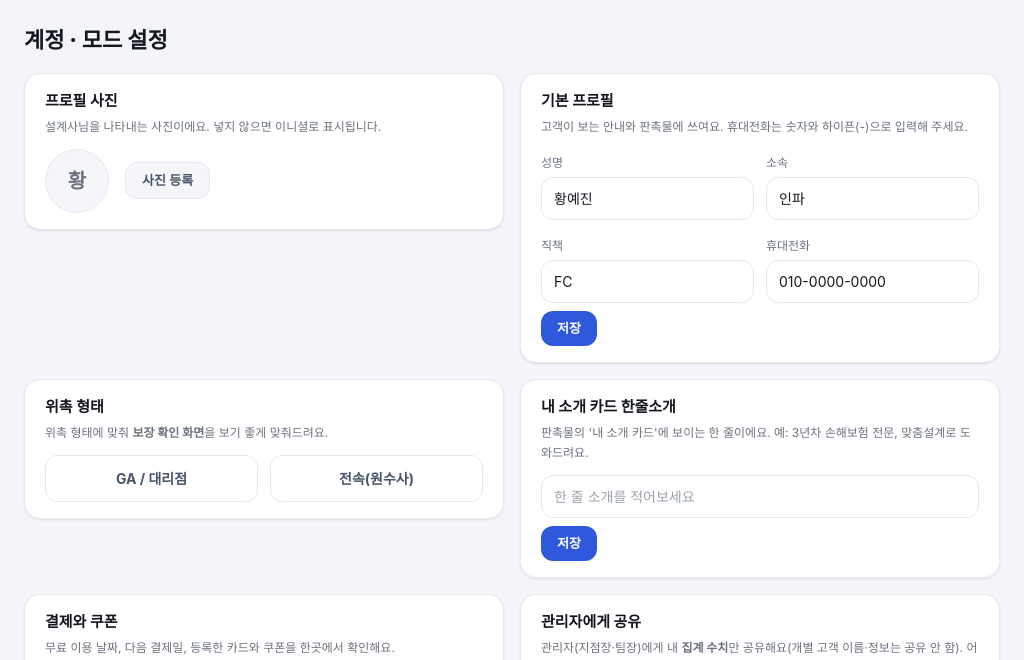
Test: 기본 프로필 저장 결과 › 네트워크 실패는 error alert로 다음 행동을 알린다
Expected: the field showing "황예진" is shown, [541,176,754,220]
Click the button "저장" below "직책" at (569, 328), box [541,310,597,346]
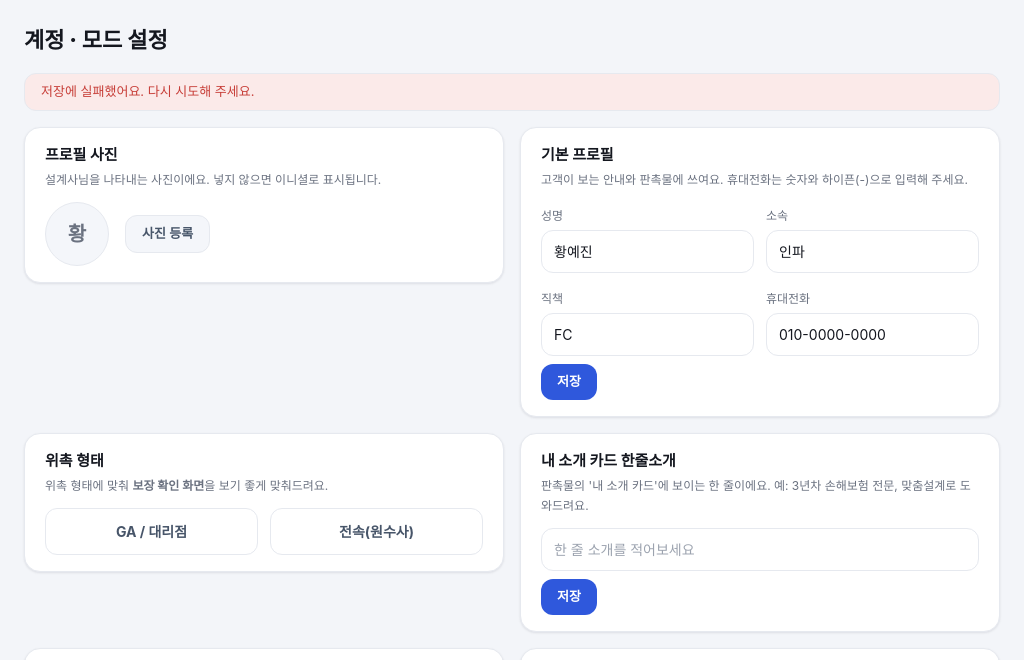
Result: the message reads "저장에 실패했어요. 다시 시도해 주세요." at [41,83,254,99]
